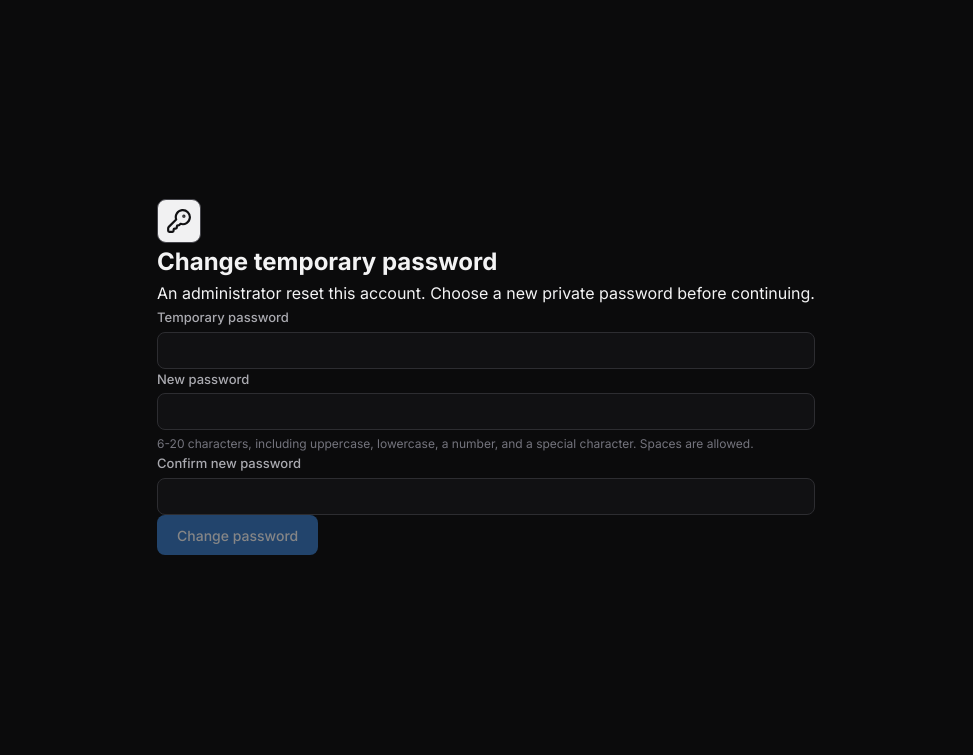
Scenario: Phase 15 authentication UI regression › blocks the application shell until an administrator-reset credential is changed
Expected: the heading "Change temporary password" is shown, x1=157 y1=247 x2=497 y2=276
In the password field labelled "Temporary password": (486, 350) x1=158 y1=332 x2=814 y2=368, type "Temporary!Secret456"
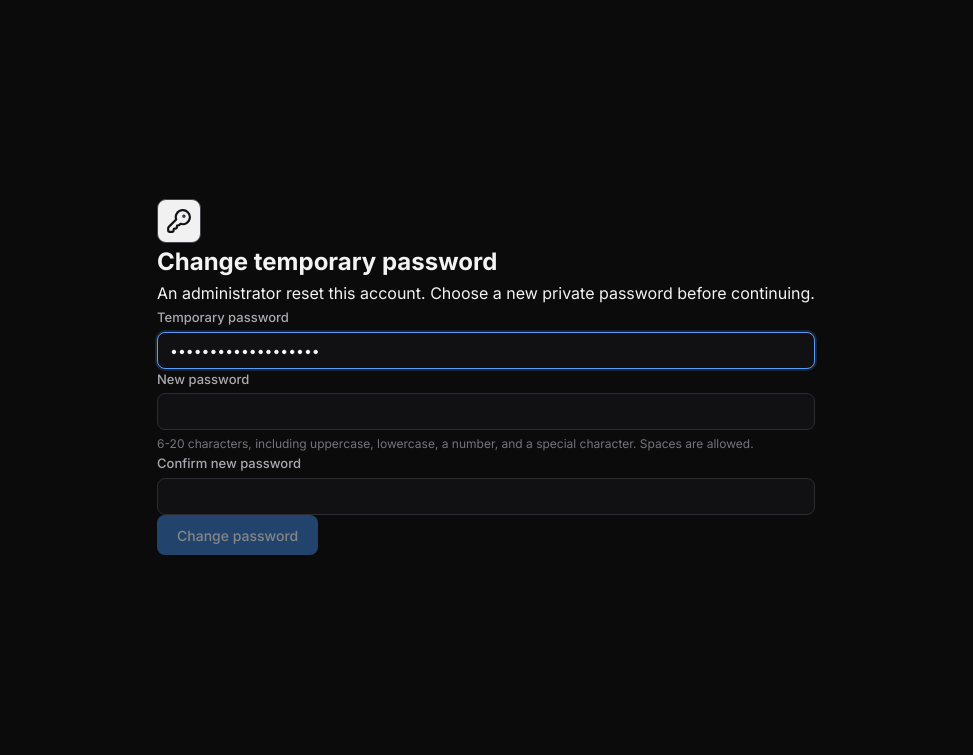
In the password field labelled "New password": (486, 412) x1=158 y1=394 x2=814 y2=429, type "Replace!Secret78"
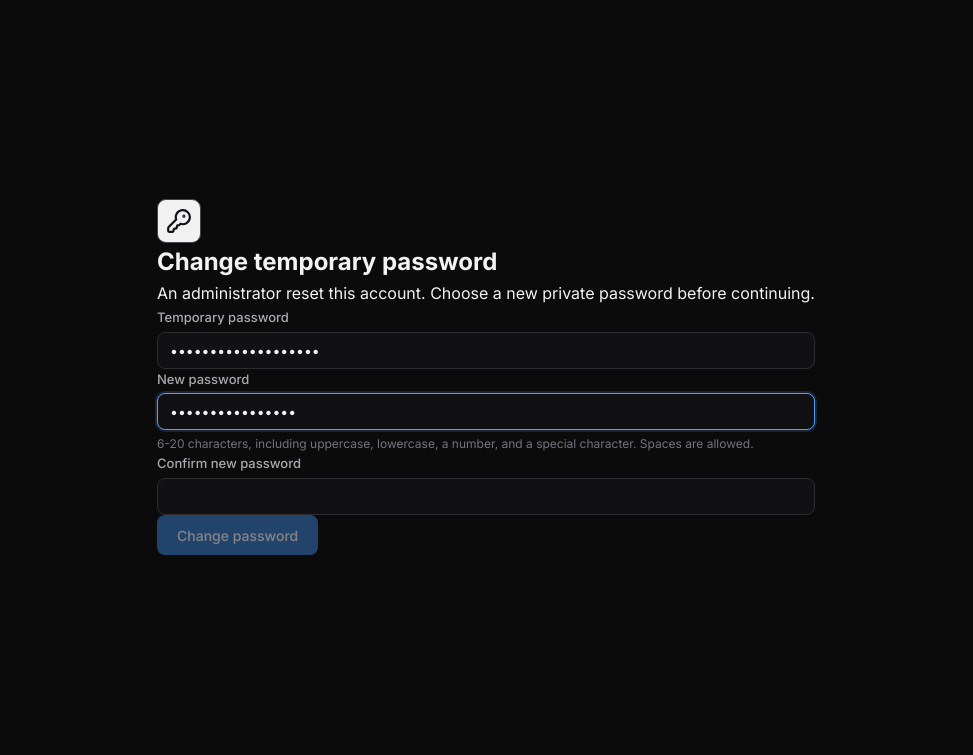
In the password field labelled "Confirm new password": (486, 497) x1=158 y1=479 x2=814 y2=514, type "Replace!Secret78"
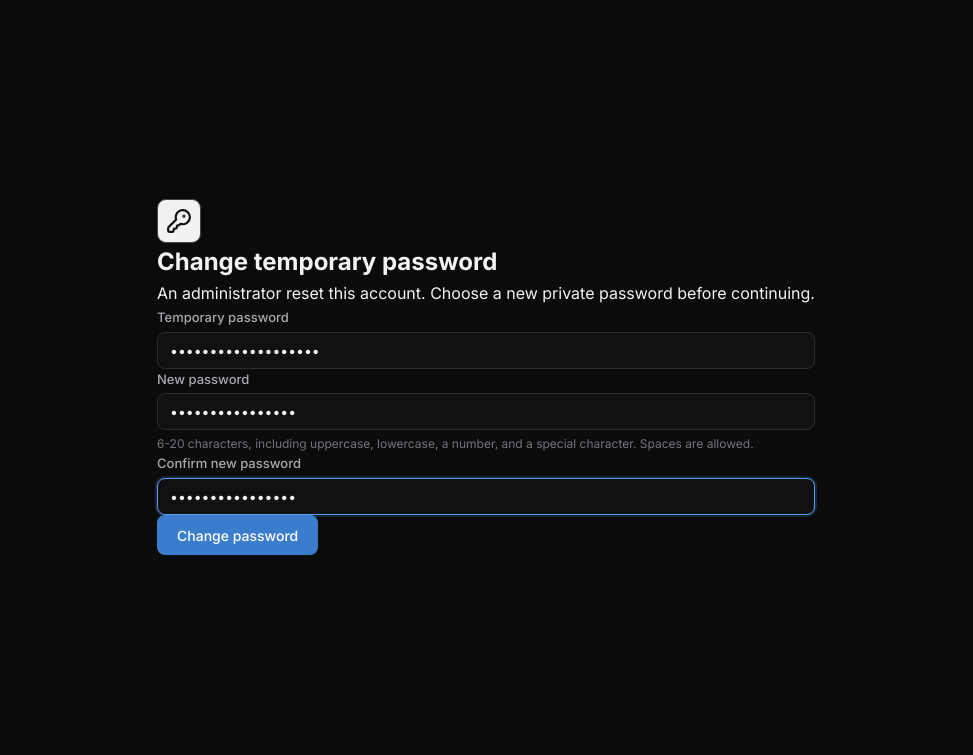
Click the button "Change password": (238, 535) x1=157 y1=515 x2=318 y2=555
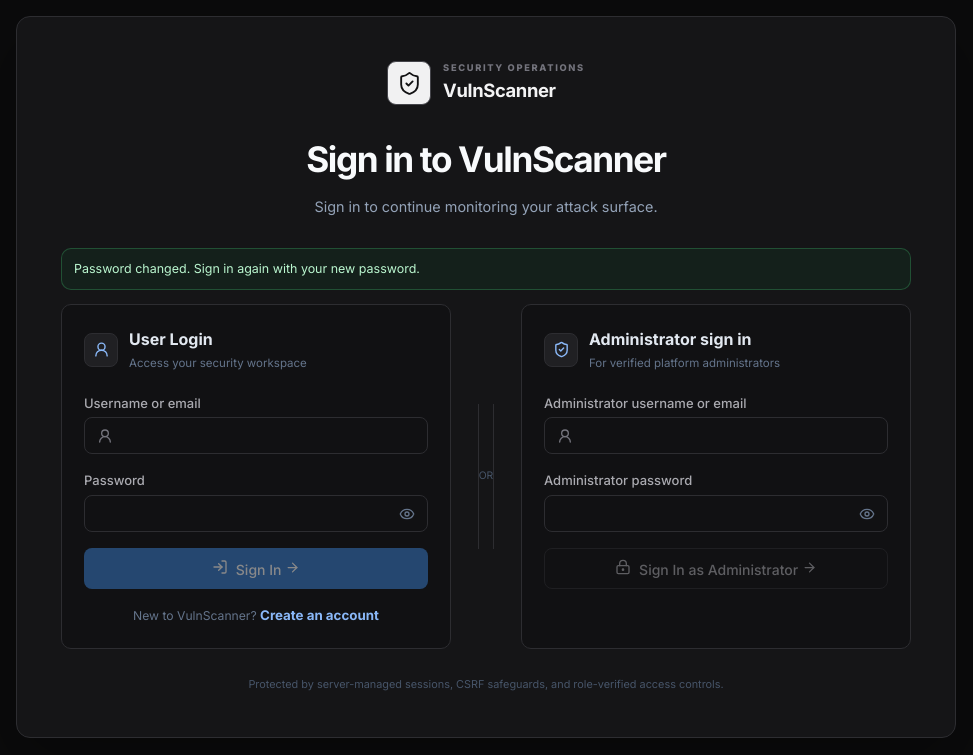
Now the heading "Administrator sign in" is shown, box x1=589 y1=327 x2=780 y2=352
